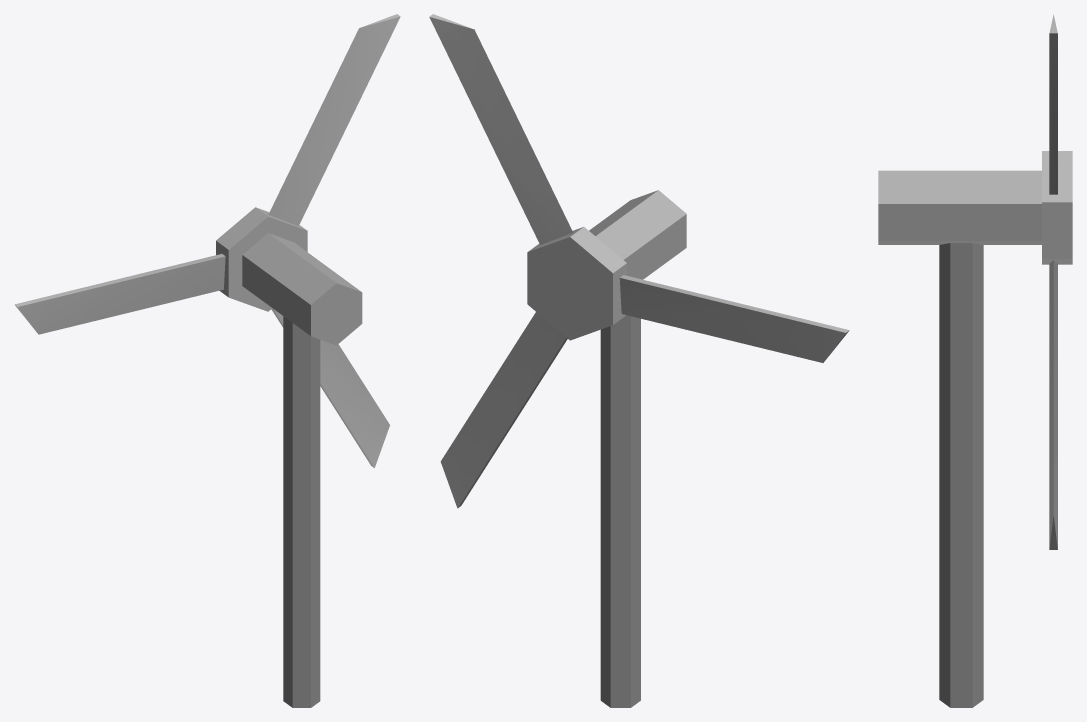
File: Windmill.fbx
The picture shows the model from 3 angles, left to right: view 1: azimuth 30°, elevation 25°; view 2: azimuth 150°, elevation 25°; view 3: azimuth 270°, elevation 25°; orthographic projection. The views are drawn at different scales.
Visible parts, largest first — view 1: Cylinder.002, Cylinder; view 2: Cylinder.002, Cylinder; view 3: Cylinder, Cylinder.002.
Boxes of the visible parts, x1=… form: Cylinder.002: x1=14, y1=14, x2=400, y2=467; Cylinder: x1=242, y1=233, x2=362, y2=707; Cylinder.002: x1=429, y1=14, x2=849, y2=508; Cylinder: x1=589, y1=190, x2=686, y2=707; Cylinder: x1=878, y1=170, x2=1041, y2=707; Cylinder.002: x1=1042, y1=14, x2=1072, y2=549.
Bounding box in the file's own units: 139 × 217 × 51.27.
